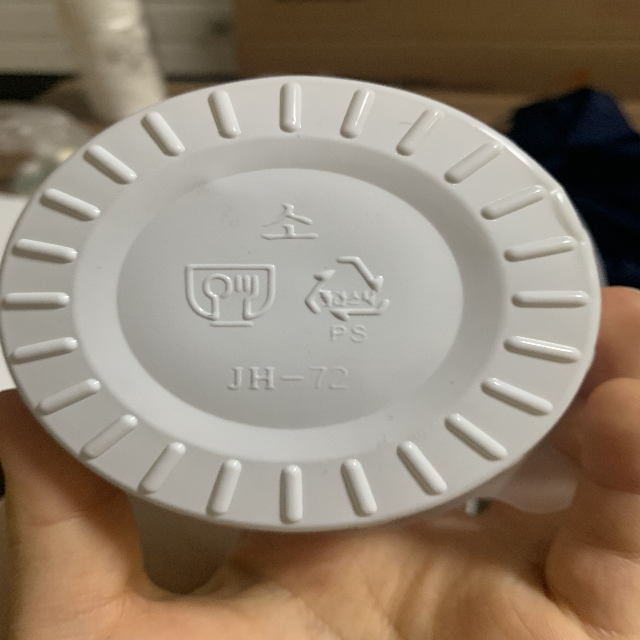ps: (299, 247, 403, 351)
